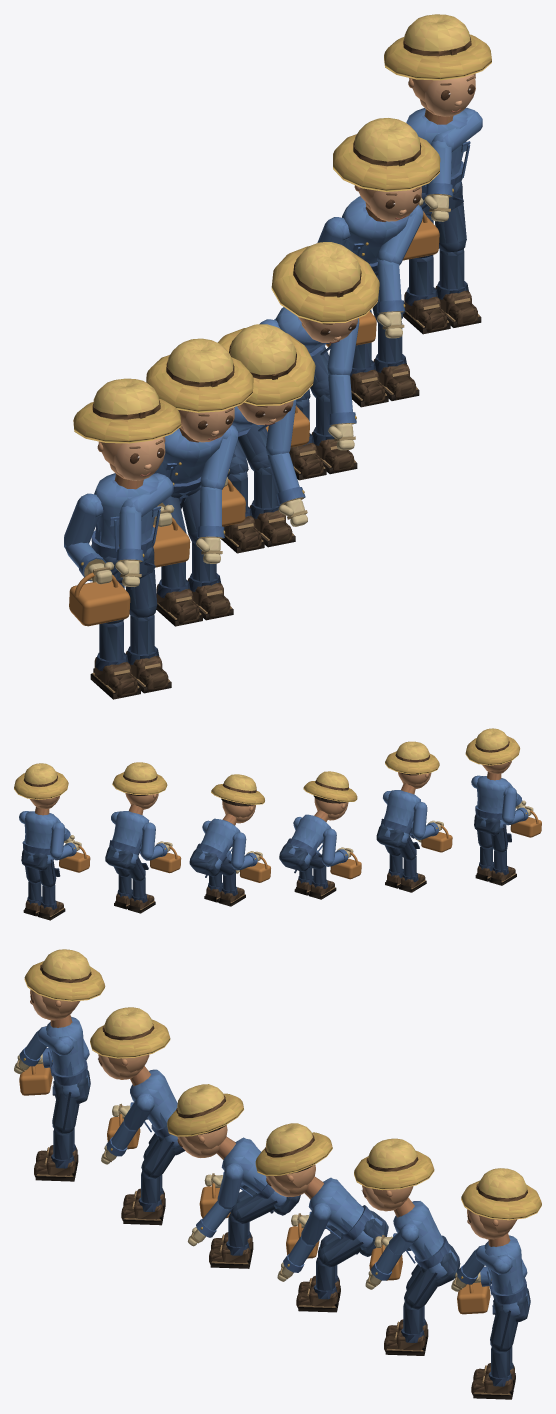
Rendered from ba-harvest-tq-after.glb.
The picture shows the model from 3 angles, top to bottom: view 1: azimuth 30°, elevation 25°; view 2: azimuth 150°, elevation 25°; view 3: azimuth 270°, elevation 25°; orthographic projection. The views are drawn at different scales.
Parts seen in each view (by area): view 1: strawHat (×6), leftShin (×6), rightShin (×6), denimJacketTorso (×5), head (×6), leftLowerArm (×6), leftUpperArm (×6), harvestBasket (×4), leftThigh (×3), rightUpperArm; view 2: denimJacketTorso (×6), strawHat (×6), rightShin (×6), trouserHips (×6), rightUpperArm (×6), harvestBasket (×6), leftShin (×6), head (×4), rightThigh (×4); view 3: strawHat (×6), denimJacketTorso (×6), leftShin (×6), head (×6), leftThigh (×6), leftUpperArm (×6), leftLowerArm (×4), harvestBasket (×2), trouserHips.
Boxes of the visible parts, box(x1,y1,x2,y2) form: strawHat (×6): box(73, 14, 491, 443); leftShin (×6): box(126, 249, 481, 693); rightShin (×6): box(90, 255, 450, 699); denimJacketTorso (×5): box(91, 108, 470, 557); head (×6): box(97, 73, 475, 480); leftLowerArm (×6): box(116, 140, 453, 561); leftUpperArm (×6): box(121, 108, 482, 516); harvestBasket (×4): box(69, 216, 439, 626); leftThigh (×3): box(125, 193, 466, 617); rightUpperArm: box(64, 493, 103, 547); denimJacketTorso (×6): box(22, 772, 509, 870); strawHat (×6): box(14, 728, 520, 804); rightShin (×6): box(37, 850, 516, 920); trouserHips (×6): box(21, 813, 506, 877); rightUpperArm (×6): box(50, 787, 516, 868); harvestBasket (×6): box(59, 817, 541, 882); leftShin (×6): box(23, 846, 493, 916); head (×4): box(125, 772, 431, 823); rightThigh (×4): box(39, 824, 511, 887); strawHat (×6): box(24, 949, 541, 1220); denimJacketTorso (×6): box(46, 1014, 529, 1316); leftShin (×6): box(34, 1129, 513, 1399); head (×6): box(30, 989, 517, 1239); leftThigh (×6): box(52, 1092, 517, 1351); leftUpperArm (×6): box(37, 1026, 512, 1274); leftLowerArm (×4): box(106, 1121, 401, 1280); harvestBasket (×2): box(19, 1063, 490, 1314); trouserHips: box(356, 1210, 388, 1256).
Size of what is drawn, in the model's own units: 6.16 by 2.4 by 5.27.
